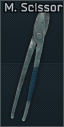Metal cutting scissors: (0, 0, 64, 127)
